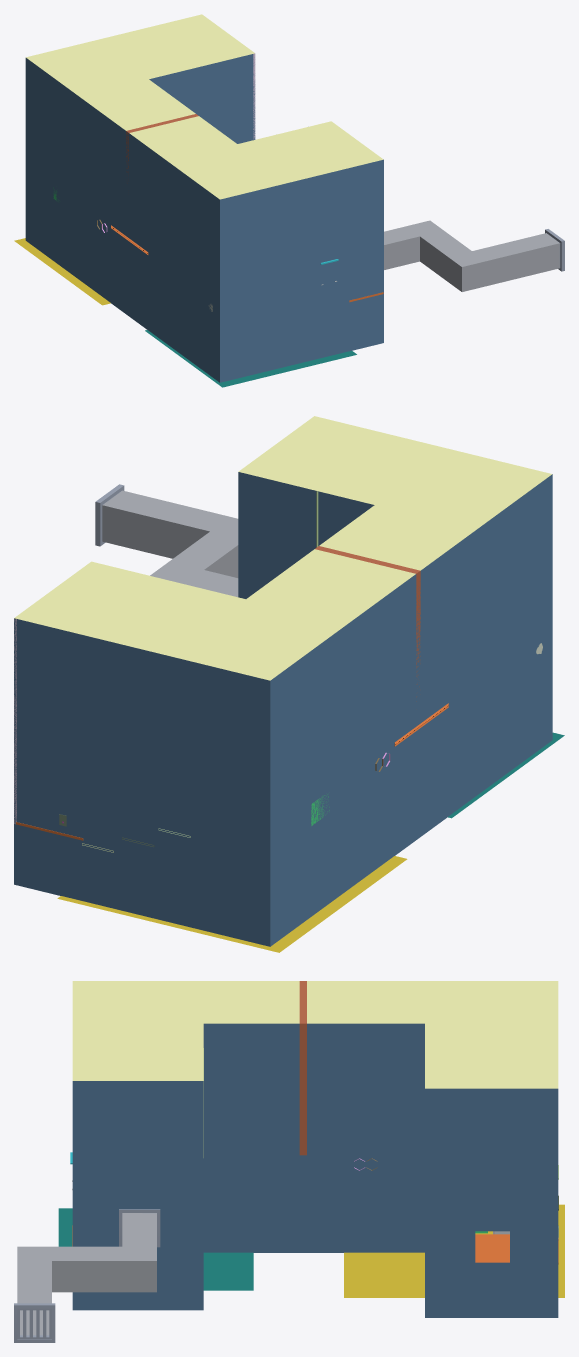
3 views of the same model, one above another, from view 1: azimuth 30°, elevation 25°; view 2: azimuth 150°, elevation 25°; view 3: azimuth 270°, elevation 25° (orthographic). The views are drawn at different scales.
Parts seen in each view (by area): view 1: Cube_006, Cube_384, Cube_8.029, Cube_8.053, Cube_8.055; view 2: Cube_006, Cube_384, Cube_8.029, Cube_8.055, Cube_8.009; view 3: Cube_006, Cube_384, Cube_8.029, Cube_8.055, Cube_8.053, Cube_8.009, Table 2 .001, Cube_8.059, Cube_8.011.
Boxes of the visible parts, x1=… form: Cube_006: x1=25, y1=54, x2=383, y2=382; Cube_384: x1=26, y1=14, x2=383, y2=199; Cube_8.029: x1=384, y1=220, x2=559, y2=291; Cube_8.053: x1=145, y1=330, x2=356, y2=387; Cube_8.055: x1=14, y1=238, x2=110, y2=305; Cube_006: x1=14, y1=472, x2=552, y2=946; Cube_384: x1=14, y1=416, x2=551, y2=680; Cube_8.029: x1=102, y1=490, x2=238, y2=597; Cube_8.055: x1=57, y1=856, x2=407, y2=952; Cube_8.009: x1=315, y1=546, x2=420, y2=701; Cube_006: x1=72, y1=1023, x2=558, y2=1317; Cube_384: x1=72, y1=981, x2=558, y2=1088; Cube_8.029: x1=17, y1=1213, x2=156, y2=1335; Cube_8.055: x1=344, y1=1204, x2=564, y2=1297; Cube_8.053: x1=58, y1=1208, x2=253, y2=1290; Cube_8.009: x1=299, y1=981, x2=306, y2=1155; Table 2 .001: x1=475, y1=1234, x2=558, y2=1264; Cube_8.059: x1=17, y1=1308, x2=51, y2=1339; Cube_8.011: x1=14, y1=1303, x2=55, y2=1342.
Size of the model in its own units: 36.73 by 19.73 by 42.41.
